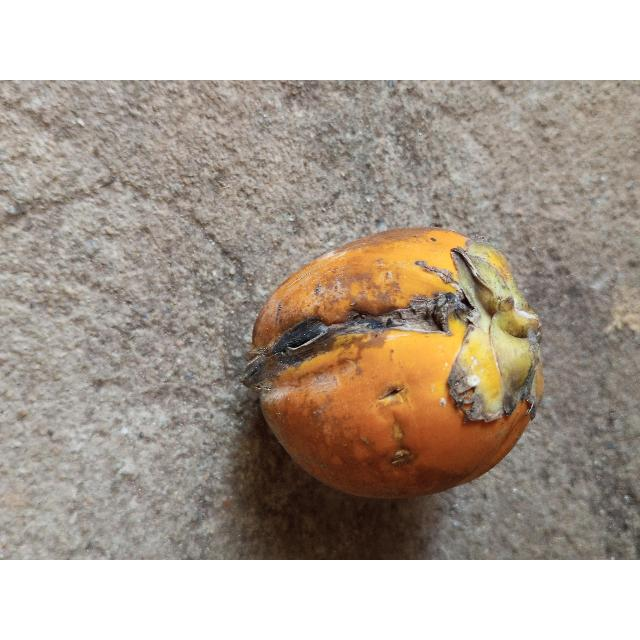damaged: (242, 228, 545, 502)
